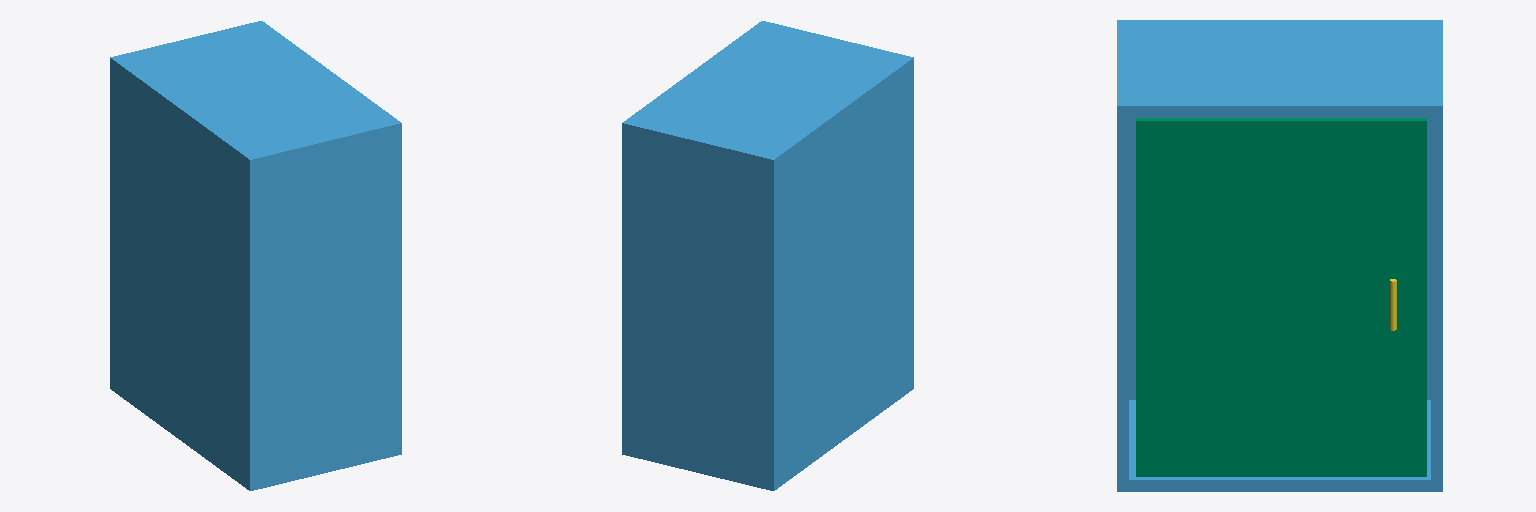
robot.urdf — my_cabinet:
<?xml version="1.0" ?>
<robot name="my_cabinet">
	<link name="world"/>
	<joint name="virtual_joint" type="fixed">
		<parent link="world"/>
		<child link="base_cabinet_link"/>
		<origin xyz="0.0 0.0 0.0" rpy="0.0 0.0 0.0"/>
	</joint>
	<link name="base_cabinet_link">
		<visual>
			<origin xyz="0.0 -0.0025 -0.30418193837133456" rpy="0.0 0.0 0.0"/>
			<geometry>
				<box size="0.3 0.47994797799558936 0.018"/>
			</geometry>
		</visual>
		<collision name="base_cabinet_link_collision_0">
			<origin xyz="0.0 -0.0025 -0.30418193837133456" rpy="0.0 0.0 0.0"/>
			<geometry>
				<box size="0.3 0.47994797799558936 0.018"/>
			</geometry>
		</collision>
		<visual>
			<origin xyz="0.0 0.2284739889977947 0.0" rpy="0.0 0.0 0.0"/>
			<geometry>
				<box size="0.3 0.018 0.6263638767426691"/>
			</geometry>
		</visual>
		<collision name="base_cabinet_link_collision_1">
			<origin xyz="0.0 0.2284739889977947 0.0" rpy="0.0 0.0 0.0"/>
			<geometry>
				<box size="0.3 0.018 0.6263638767426691"/>
			</geometry>
		</collision>
		<visual>
			<origin xyz="0.0 -0.2334739889977947 0.0" rpy="0.0 0.0 0.0"/>
			<geometry>
				<box size="0.3 0.018 0.6263638767426691"/>
			</geometry>
		</visual>
		<collision name="base_cabinet_link_collision_2">
			<origin xyz="0.0 -0.2334739889977947 0.0" rpy="0.0 0.0 0.0"/>
			<geometry>
				<box size="0.3 0.018 0.6263638767426691"/>
			</geometry>
		</collision>
		<visual>
			<origin xyz="0.0 -0.0025 0.30418193837133456" rpy="0.0 0.0 0.0"/>
			<geometry>
				<box size="0.3 0.47994797799558936 0.018"/>
			</geometry>
		</visual>
		<collision name="base_cabinet_link_collision_3">
			<origin xyz="0.0 -0.0025 0.30418193837133456" rpy="0.0 0.0 0.0"/>
			<geometry>
				<box size="0.3 0.47994797799558936 0.018"/>
			</geometry>
		</collision>
		<visual>
			<origin xyz="-0.141 -0.0025 0.0" rpy="0.0 0.0 0.0"/>
			<geometry>
				<box size="0.018 0.47994797799558936 0.6263638767426691"/>
			</geometry>
		</visual>
		<collision name="base_cabinet_link_collision_4">
			<origin xyz="-0.141 -0.0025 0.0" rpy="0.0 0.0 0.0"/>
			<geometry>
				<box size="0.018 0.47994797799558936 0.6263638767426691"/>
			</geometry>
		</collision>
		<inertial>
			<mass value="0.200000"/>
			<inertia ixx="0.010378" ixy="0.0" ixz="0.0" iyy="0.008039" iyz="0.0" izz="0.005339"/>
		</inertial>
	</link>
	<link name="door_link">
		<visual>
			<origin xyz="0.0 -0.21447398899779468 0.0"/>
			<geometry>
				<box size="0.018 0.42894797799558937 0.5803638767426691"/>
			</geometry>
		</visual>
		<collision name="door_link_collision">
			<origin xyz="0.0 -0.21447398899779468 0.0"/>
			<geometry>
				<box size="0.018 0.42894797799558937 0.5803638767426691"/>
			</geometry>
		</collision>
		<inertial>
			<mass value="0.200000"/>
			<inertia ixx="0.008680" ixy="0.0" ixz="0.0" iyy="0.005619" iyz="0.0" izz="0.003072"/>
		</inertial>
	</link>
	<joint name="door_joint" type="revolute">
		<origin xyz="0.141 -0.21447398899779468 0.0" rpy="0.000000 -0.000000 3.141593"/>
		<axis xyz="0 0 1"/>
		<parent link="base_cabinet_link"/>
		<child link="door_link"/>
		<limit effort="50" lower="-1.658062789394613" upper="0" velocity="10"/>
		<dynamics friction="3.5" damping="3.5"/>
	</joint>
	<link name="handle_link">
		<visual>
			<origin xyz="0.0 0.0 0.0" rpy="0.0 0.0 0.0"/>
			<geometry>
				<cylinder length="0.08" radius="0.005"/>
			</geometry>
		</visual>
		<collision name="handle_link_collision_0">
			<origin xyz="0.0 0.0 0.0" rpy="0.0 0.0 0.0"/>
			<geometry>
				<cylinder length="0.08" radius="0.005"/>
			</geometry>
		</collision>
		<visual>
			<origin xyz="-0.01 0.0 0.02" rpy="0.0 1.5707963267948966 0.0"/>
			<geometry>
				<cylinder length="0.02" radius="0.003"/>
			</geometry>
		</visual>
		<collision name="handle_link_collision_1">
			<origin xyz="-0.01 0.0 0.02" rpy="0.0 1.5707963267948966 0.0"/>
			<geometry>
				<cylinder length="0.01" radius="0.003"/>
			</geometry>
		</collision>
		<visual>
			<origin xyz="-0.01 0.0 -0.02" rpy="0.0 1.5707963267948966 0.0"/>
			<geometry>
				<cylinder length="0.02" radius="0.003"/>
			</geometry>
		</visual>
		<collision name="handle_link_collision_2">
			<origin xyz="-0.01 0.0 -0.02" rpy="0.0 1.5707963267948966 0.0"/>
			<geometry>
				<cylinder length="0.02" radius="0.003"/>
			</geometry>
		</collision>
		<inertial>
			<mass value="0.050000"/>
			<inertia ixx="0.000027" ixy="0.0" ixz="0.0" iyy="0.000029" iyz="0.0" izz="0.000003"/>
		</inertial>
	</link>
	<joint name="handle_joint" type="fixed">
		<origin xyz="-0.028999999999999998 -0.3789479779955894 0.0" rpy="0.000000 -0.000000 3.141593"/>
		<parent link="door_link"/>
		<child link="handle_link"/>
	</joint>
	<gazebo reference="base_cabinet_link">
		<sensor name="main_sensor" type="contact">
			<selfCollide>true</selfCollide>
			<alwaysOn>true</alwaysOn>
			<updateRate>5.0</updateRate>
			<material>Gazebo/Red</material>
			<contact>
				<collision>base_cabinet_link_collision_0_collision</collision>
				<collision>base_cabinet_link_collision_1_collision</collision>
				<collision>base_cabinet_link_collision_2_collision</collision>
				<collision>base_cabinet_link_collision_3_collision</collision>
				<collision>base_cabinet_link_collision_4_collision</collision>
			</contact>
			<plugin name="gazebo_ros_bumper_controller" filename="libgazebo_ros_bumper.so">
				<bumperTopicName>/contact</bumperTopicName>
				<frameName>world</frameName>
			</plugin>
		</sensor>
	</gazebo>
	<gazebo reference="door_link">
		<sensor name="main_sensor" type="contact">
			<selfCollide>true</selfCollide>
			<alwaysOn>true</alwaysOn>
			<updateRate>5.0</updateRate>
			<material>Gazebo/Red</material>
			<contact>
				<collision>door_link_collision_collision</collision>
			</contact>
			<plugin name="gazebo_ros_bumper_controller" filename="libgazebo_ros_bumper.so">
				<bumperTopicName>/contact_door</bumperTopicName>
				<frameName>contact_door</frameName>
			</plugin>
		</sensor>
	</gazebo>
	<gazebo reference="door_link">
		<mu>3.0</mu>
		<mu2>3.0</mu2>
		<kp>10000000</kp>
		<kd>100</kd>
	</gazebo>
</robot>

--- Facts derived from the render (not from the file) ---
Views: 3 orthographic renders of the robot side by side, from view 1: azimuth 30°, elevation 25°; view 2: azimuth 150°, elevation 25°; view 3: azimuth 270°, elevation 25°.
Model my_cabinet with 4 links and 3 joints (1 revolute, 2 fixed), rooted at world, posed all joints at 0.
Visible links, largest first — view 1: base_cabinet_link; view 2: base_cabinet_link; view 3: door_link, base_cabinet_link.
Boxes of the visible links, x1,y1,x2,y2 form: base_cabinet_link: (110,21,401,490); base_cabinet_link: (622,21,913,490); door_link: (1136,118,1426,476); base_cabinet_link: (1117,20,1442,491).
Size in the robot's own frame: 0.325 by 0.4799 by 0.6264 metres.
Geometry: primitives only (box / cylinder / sphere), no mesh files.
